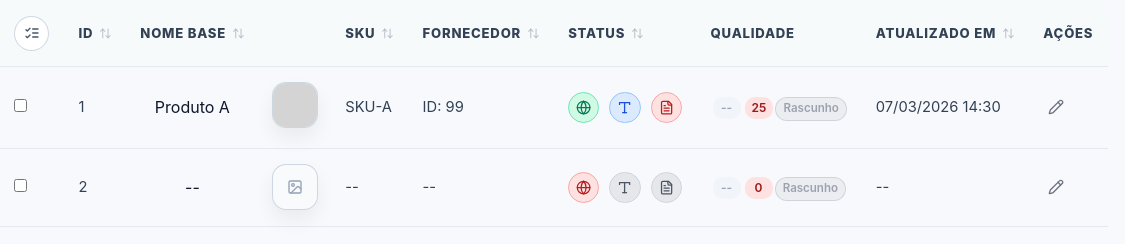
Test case: ProductTable › renders a compact selection menu when selection actions are provided
This screenshot has width=1125, height=244.
Step 1. Click the button named "Opções de seleção" → (32, 33), box left=14, top=16, right=49, bottom=51
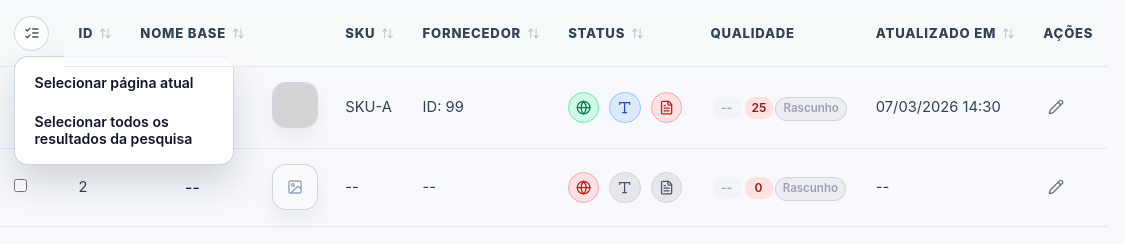
Step 2. Click the menu item "Selecionar todos os resultados da pesquisa" → (124, 130), box left=21, top=102, right=228, bottom=158
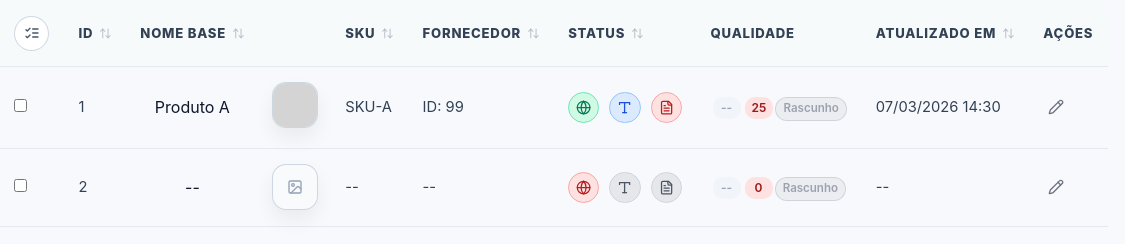
Expected: the menu item "Selecionar página atual" is gone
